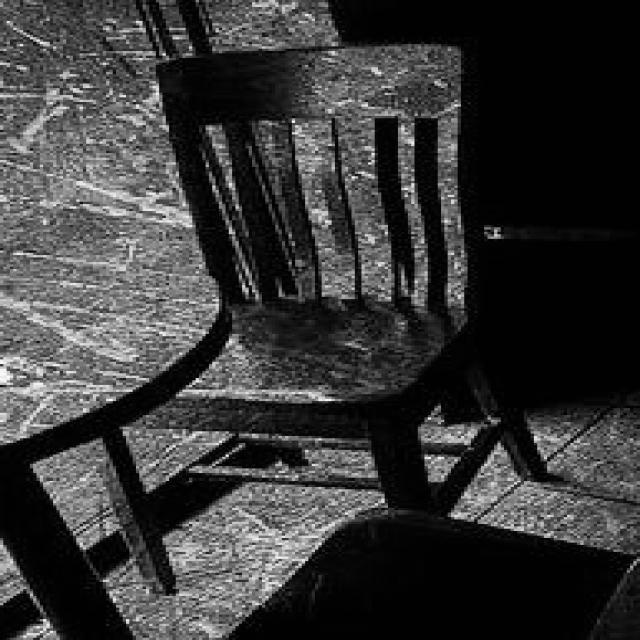chair: (109, 24, 551, 590)
